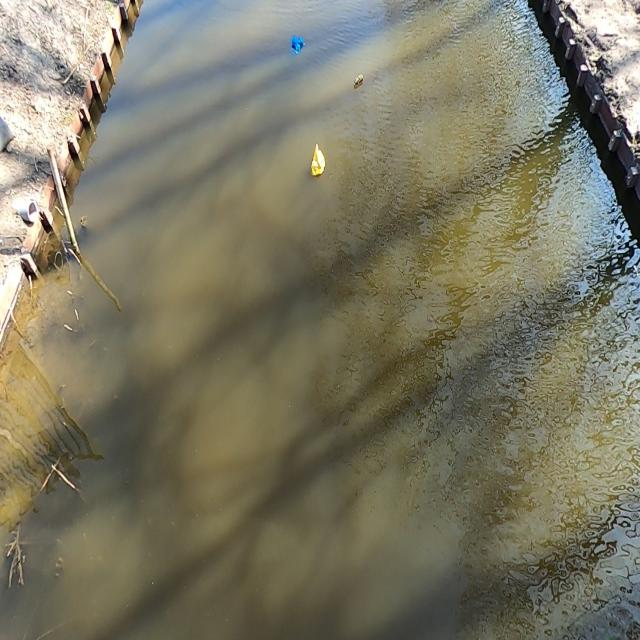Autre plastique: (308, 142, 327, 188)
Non plastique: (352, 69, 366, 95)
